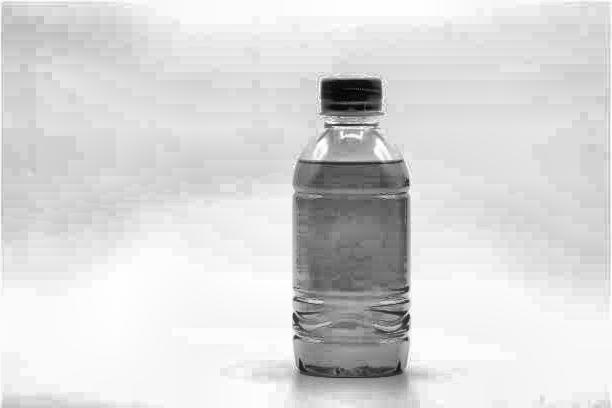waterbottle: (252, 44, 446, 393)
